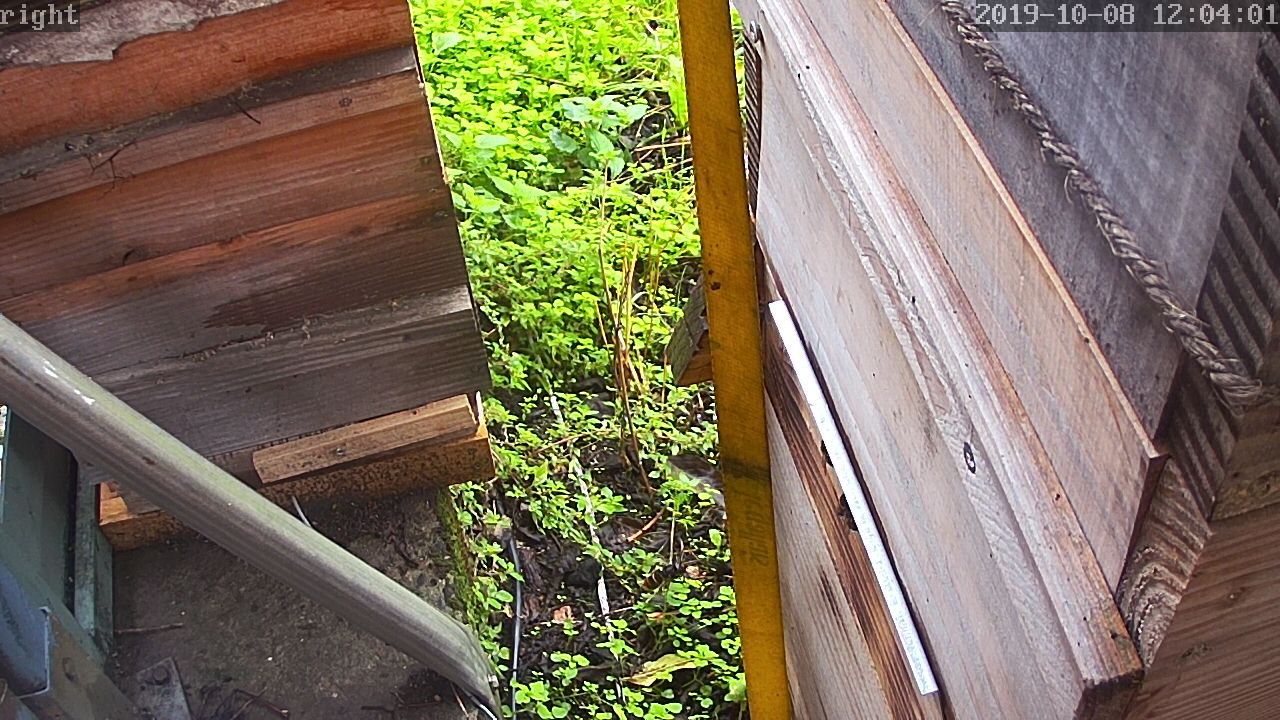bee: (835, 489, 862, 536), (817, 436, 838, 477)
hornet: (633, 556, 693, 600)
